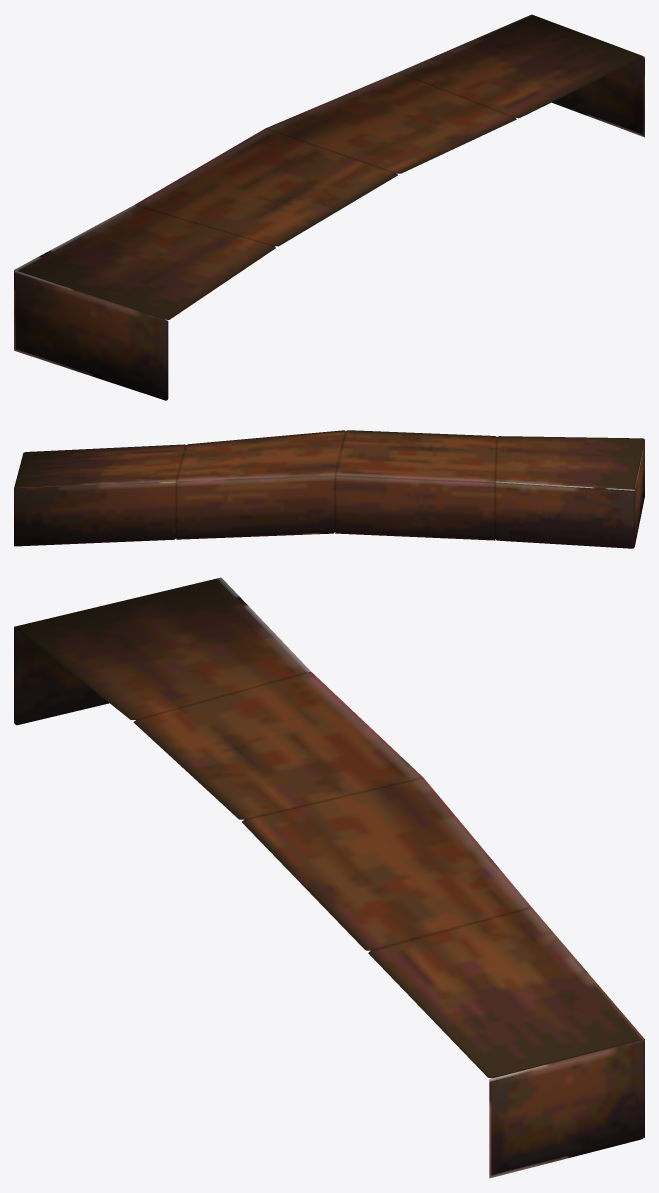
3 renders of one model, top to bottom at view 1: azimuth 30°, elevation 25°; view 2: azimuth 150°, elevation 25°; view 3: azimuth 270°, elevation 25°, orthographic. The views are drawn at different scales.
Parts seen in each view (by area): view 1: T1L4M004_6; view 2: T1L4M004_6; view 3: T1L4M004_6.
Part boxes in pixels (x1=…): T1L4M004_6: x1=14, y1=14, x2=644, y2=400; T1L4M004_6: x1=14, y1=430, x2=644, y2=548; T1L4M004_6: x1=14, y1=577, x2=644, y2=1178.
Bounding box in the file's own units: 5.12 × 0.8457 × 3.08.
